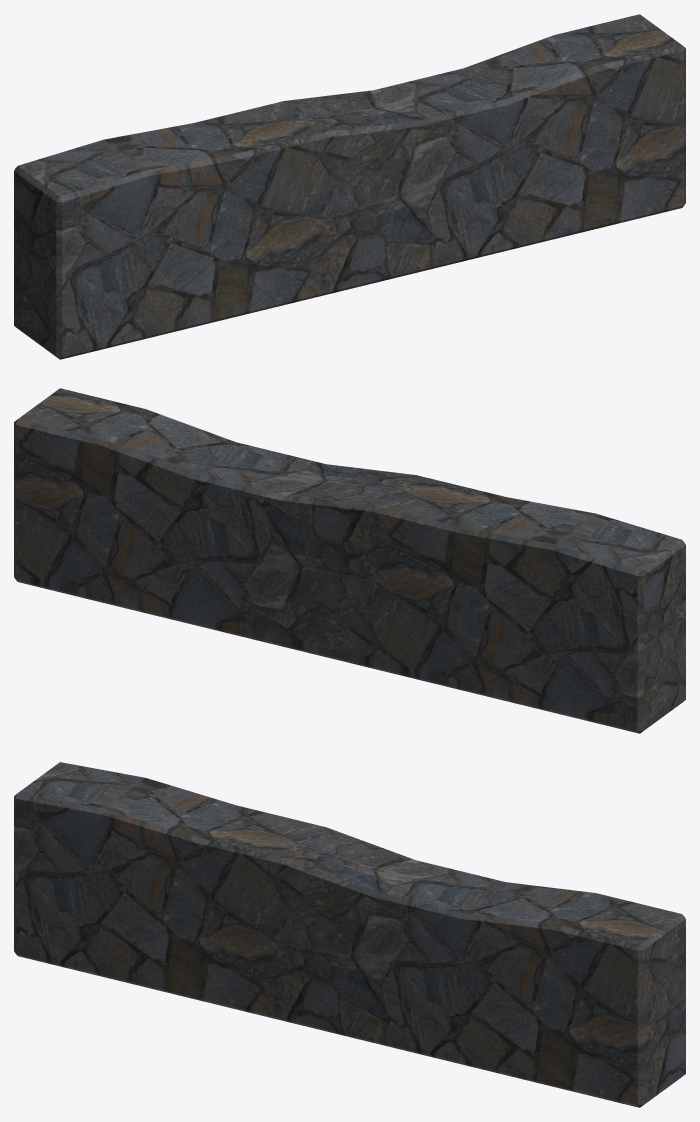
File: Fence5-1.fbx
3 renders of one model, top to bottom at view 1: azimuth 30°, elevation 25°; view 2: azimuth 150°, elevation 25°; view 3: azimuth 330°, elevation 25°, orthographic.
Parts seen in each view (by area): view 1: Fence5-1; view 2: Fence5-1; view 3: Fence5-1.
Boxes of the visible parts, x1,y1,x2,y2 form: Fence5-1: [14, 14, 685, 359]; Fence5-1: [14, 388, 685, 733]; Fence5-1: [14, 762, 685, 1107].
Size of the model in its own units: 809 by 207 by 104.
